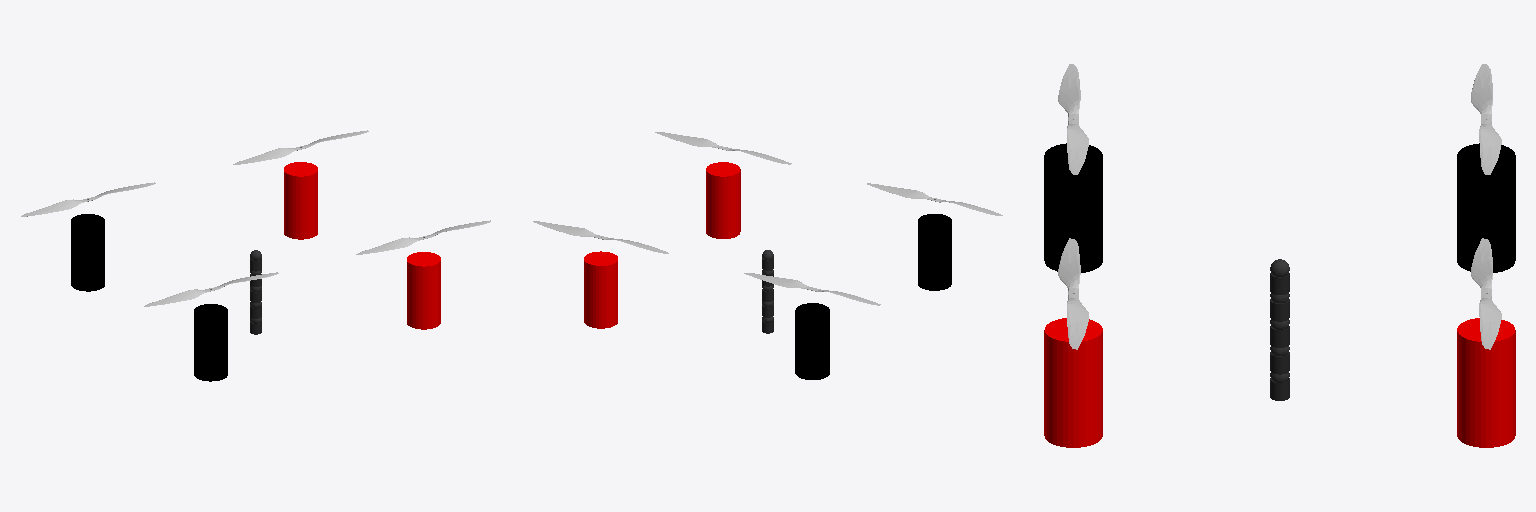
URDF robot description (bros300):
<?xml version="1.0" ?>
<!-- =================================================================================== -->
<!-- |    This document was autogenerated by xacro from model_impactor.urdf.xacro      | -->
<!-- |    Fixed: segment masses/inertias, inertial origins, rope collisions removed    | -->
<!-- =================================================================================== -->
<robot name="bros300">
 <properties mass="1.21" arm="0.15" kf="4.5e-8" km="5.4e-10" thrust2weight="6.944"  max_speed_kmh="200" gnd_eff_coeff="11.36859" prop_radius="0.089" drag_coeff_xy="9.1785e-7" drag_coeff_z="10.311e-7" dw_coeff_1="2267.18" dw_coeff_2=".16" dw_coeff_3="-.11" />

  <material name="blue">
    <color rgba="0.2 0.2 0.2 1"/>
  </material>
  <material name="gray">
    <color rgba="0.25 0.25 0.25 1"/>
  </material>
  <material name="dark_gray">
    <color rgba="0.2 0.2 0.2 1"/>
  </material>
  <material name="pink">
    <color rgba="1.0 0.2 0.8 1"/>
  </material>
  <material name="purple">
    <color rgba="0.8 0.2 0.8 1"/>
  </material>
  <material name="red">
    <color rgba="1.0 0.2 0.2 1"/>
  </material>
  <material name="orange">
    <color rgba="1.0 0.5 0.0 1"/>
  </material>
  <material name="green">
    <color rgba="0.2 0.8 0.2 1"/>
  </material>

  <link name="base_link">
    <inertial>
      <origin rpy="0 0 0" xyz="0 0 0"/>
      <mass value="1.21"/>
      <inertia ixx=".007" ixy="0.0" ixz="0.0" iyy=".007" iyz="0.0" izz=".01"/>
    </inertial>
    <visual>
      <origin rpy="0 0 55" xyz="0 0 0.075"/>
      <geometry>
        <mesh filename="./mesh/a300/frame.stl" scale="0.001 0.001 0.001"/>
      </geometry>
      <material name="frame">
        <color rgba="0.2 0.2 0.2 1"/>
      </material>
    </visual>

<!-- Motors (Visual Only) -->
    <visual>
      <origin rpy="0 0 55" xyz="0.106 -0.106 0.075"/>
      <geometry>
        <mesh filename="./mesh/a300/motor.stl" scale="0.001 0.001 0.001"/>
      </geometry>
      <material name="motor">
        <color rgba="0 .0 .0 1"/>
      </material>
    </visual>
    <visual>
      <origin rpy="0 0 55" xyz="-0.106 0.106 0.075"/>
      <geometry>
        <mesh filename="./mesh/a300/motor.stl" scale="0.001 0.001 0.001"/>
      </geometry>
      <material name="motor">
        <color rgba="0 .0 .0 1"/>
      </material>
    </visual>
    <visual>
      <origin rpy="0 0 55" xyz="0.106 0.106 0.075"/>
      <geometry>
        <mesh filename="./mesh/a300/motor.stl" scale="0.001 0.001 0.001"/>
      </geometry>
      <material name="motor">
        <color rgba="0 .0 .0 1"/>
      </material>
    </visual>
    <visual>
      <origin rpy="0 0 55" xyz="-0.106 -0.106 0.075"/>
      <geometry>
        <mesh filename="./mesh/a300/motor.stl" scale="0.001 0.001 0.001"/>
      </geometry>
      <material name="motor">
        <color rgba="0 .0 .0 1"/>
      </material>
    </visual>

<!-- Legs (Visual and Collision) -->

    <!-- Leg 1 -->
    <visual>
      <origin rpy="0 0 0" xyz="0.106 -0.106 -0.03"/>
      <geometry>
        <cylinder radius="0.015" length="0.06"/>
      </geometry>
      <material name="red"><color rgba="1 0 0 1"/></material>
    </visual>
    <collision>
      <origin rpy="0 0 0" xyz="0.106 -0.106 -0.03"/>
      <geometry>
        <cylinder radius="0.015" length="0.06"/>
      </geometry>
    </collision>

    <!-- Leg 2 -->
    <visual>
      <origin rpy="0 0 0" xyz="-0.106 0.106 -0.03"/>
      <geometry>
        <cylinder radius="0.015" length="0.06"/>
      </geometry>
      <material name="black"><color rgba="0 0 0 1"/></material>
    </visual>
    <collision>
      <origin rpy="0 0 0" xyz="-0.106 0.106 -0.03"/>
      <geometry>
        <cylinder radius="0.015" length="0.06"/>
      </geometry>
    </collision>

    <!-- Leg 3 -->
    <visual>
      <origin rpy="0 0 0" xyz="0.106 0.106 -0.03"/>
      <geometry>
        <cylinder radius="0.015" length="0.06"/>
      </geometry>
      <material name="red"><color rgba="1 0 0 1"/></material>
    </visual>
    <collision>
      <origin rpy="0 0 0" xyz="0.106 0.106 -0.03"/>
      <geometry>
        <cylinder radius="0.015" length="0.06"/>
      </geometry>
    </collision>

    <!-- Leg 4 -->
    <visual>
      <origin rpy="0 0 0" xyz="-0.106 -0.106 -0.03"/>
      <geometry>
        <cylinder radius="0.015" length="0.06"/>
      </geometry>
      <material name="black"><color rgba="0 0 0 1"/></material>
    </visual>
    <collision>
      <origin rpy="0 0 0" xyz="-0.106 -0.106 -0.03"/>
      <geometry>
        <cylinder radius="0.015" length="0.06"/>
      </geometry>
    </collision>




    <collision>
      <origin rpy="0 0 0" xyz="0 0 0"/>
      <geometry>
        <box size=".16 .16 .05"/>
      </geometry>
    </collision>
  </link>

<!-- Propellers -->
  <link name="prop0_link">
    <inertial>
      <origin rpy="0 0 0" xyz="0.106 -0.106 0"/>
      <mass value="0"/>
      <inertia ixx="0" ixy="0" ixz="0" iyy="0" iyz="0" izz="0"/>
    </inertial>
    <visual>
      <origin rpy="0 0 0" xyz="0.106 -0.106 0.02"/>
      <geometry>
          <mesh filename="./mesh/a300/prop.dae"  scale="0.4 0.4 0.4"/>
      </geometry>
    </visual>
  </link>
  <joint name="prop0_joint" type="fixed">
    <parent link="base_link"/>
    <child link="prop0_link"/>
  </joint>

  <link name="prop1_link">
    <inertial>
      <origin rpy="0 0 0" xyz="-0.106 0.106 0"/>
      <mass value="0"/>
      <inertia ixx="0" ixy="0" ixz="0" iyy="0" iyz="0" izz="0"/>
    </inertial>
    <visual>
      <origin rpy="0 0 0" xyz="-0.106 0.106 0.02"/>
      <geometry>
          <mesh filename="./mesh/a300/prop.dae"  scale="0.4 0.4 0.4"/>
      </geometry>
    </visual>
  </link>
  <joint name="prop1_joint" type="fixed">
    <parent link="base_link"/>
    <child link="prop1_link"/>
  </joint>

  <link name="prop2_link">
    <inertial>
      <origin rpy="0 0 0" xyz="0.106 0.106 0"/>
      <mass value="0"/>
      <inertia ixx="0" ixy="0" ixz="0" iyy="0" iyz="0" izz="0"/>
    </inertial>
    <visual>
      <origin rpy="0 0 0" xyz="0.106 0.106 0.02"/>
      <geometry>
          <mesh filename="./mesh/a300/prop.dae"  scale="0.4 0.4 0.4"/>
      </geometry>
    </visual>
  </link>
  <joint name="prop2_joint" type="fixed">
    <parent link="base_link"/>
    <child link="prop2_link"/>
  </joint>

  <link name="prop3_link">
    <inertial>
      <origin rpy="0 0 0" xyz="-0.106 -0.106 0"/>
      <mass value="0"/>
      <inertia ixx="0" ixy="0" ixz="0" iyy="0" iyz="0" izz="0"/>
    </inertial>
    <visual>
      <origin rpy="0 0 0" xyz="-0.106 -0.106 0.02"/>
      <geometry>
          <mesh filename="./mesh/a300/prop.dae"  scale="0.4 0.4 0.4"/>
      </geometry>
    </visual>
  </link>
  <joint name="prop3_joint" type="fixed">
    <parent link="base_link"/>
    <child link="prop3_link"/>
  </joint>

  <link name="center_of_mass_link">
    <inertial>
      <origin rpy="0 0 0" xyz="0 0 0"/>
      <mass value="0"/>
      <inertia ixx="0" ixy="0" ixz="0" iyy="0" iyz="0" izz="0"/>
    </inertial>
  </link>
  <joint name="center_of_mass_joint" type="fixed">
    <parent link="base_link"/>
    <child link="center_of_mass_link"/>
  </joint>

<!-- Rope -->
  <!-- Spherical joint -->
  <link name="segment_1_sphere">
    <visual>
      <geometry>
        <sphere radius="0.005"/>
      </geometry>
      <material name="gray"/>
    </visual>
    <inertial>
      <origin rpy="0 0 0" xyz="0 0 0"/>
      <mass value="0.002"/>
      <inertia ixx="1e-7" ixy="0" ixz="0" iyy="1e-7" iyz="0" izz="1e-7"/>
    </inertial>
  </link>
  <joint name="center_of_mass_link_to_segment_1_sphere" type="revolute">
    <parent link="center_of_mass_link"/>
    <child link="segment_1_sphere"/>
    <origin rpy="0 0 0" xyz="0 0 -0.015"/>
    <axis xyz="0 1 0"/>
    <limit effort="10" lower="-3.14" upper="3.14" velocity="3"/>
    <dynamics damping="0.1" friction="0.0"/>
  </joint>
  <!-- Cylinder segment -->
  <link name="segment_1_cylinder">
    <visual>
      <geometry>
        <cylinder length="0.01" radius="0.005"/>
      </geometry>
      <origin rpy="0 0 0" xyz="0 0 -0.0075"/>
      <material name="blue"/>
    </visual>
    <inertial>
      <origin rpy="0 0 0" xyz="0 0 -0.0075"/>
      <mass value="0.002"/>
      <inertia ixx="1e-7" ixy="0" ixz="0" iyy="1e-7" iyz="0" izz="1e-7"/>
    </inertial>
  </link>
  <joint name="segment_1_sphere_to_cylinder" type="revolute">
    <parent link="segment_1_sphere"/>
    <child link="segment_1_cylinder"/>
    <origin rpy="0 0 0" xyz="0 0 0"/>
    <axis xyz="1 0 0"/>
    <limit effort="10" lower="-3.14" upper="3.14" velocity="3"/>
    <dynamics damping="0.1" friction="0.0"/>
  </joint>

  <!-- Spherical joint -->
  <link name="segment_2_sphere">
    <visual>
      <geometry>
        <sphere radius="0.005"/>
      </geometry>
      <material name="gray"/>
    </visual>
    <inertial>
      <origin rpy="0 0 0" xyz="0 0 0"/>
      <mass value="0.002"/>
      <inertia ixx="1e-7" ixy="0" ixz="0" iyy="1e-7" iyz="0" izz="1e-7"/>
    </inertial>
  </link>
  <joint name="segment_1_cylinder_to_segment_2_sphere" type="revolute">
    <parent link="segment_1_cylinder"/>
    <child link="segment_2_sphere"/>
    <origin rpy="0 0 0" xyz="0 0 -0.015"/>
    <axis xyz="0 1 0"/>
    <limit effort="10" lower="-3.14" upper="3.14" velocity="3"/>
    <dynamics damping="0.1" friction="0.0"/>
  </joint>
  <!-- Cylinder segment -->
  <link name="segment_2_cylinder">
    <visual>
      <geometry>
        <cylinder length="0.01" radius="0.005"/>
      </geometry>
      <origin rpy="0 0 0" xyz="0 0 -0.0075"/>
      <material name="blue"/>
    </visual>
    <inertial>
      <origin rpy="0 0 0" xyz="0 0 -0.0075"/>
      <mass value="0.002"/>
      <inertia ixx="1e-7" ixy="0" ixz="0" iyy="1e-7" iyz="0" izz="1e-7"/>
    </inertial>
  </link>
  <joint name="segment_2_sphere_to_cylinder" type="revolute">
    <parent link="segment_2_sphere"/>
    <child link="segment_2_cylinder"/>
    <origin rpy="0 0 0" xyz="0 0 0"/>
    <axis xyz="1 0 0"/>
    <limit effort="10" lower="-3.14" upper="3.14" velocity="3"/>
    <dynamics damping="0.1" friction="0.0"/>
  </joint>

  <!-- Spherical joint -->
  <link name="segment_3_sphere">
    <visual>
      <geometry>
        <sphere radius="0.005"/>
      </geometry>
      <material name="gray"/>
    </visual>
    <inertial>
      <origin rpy="0 0 0" xyz="0 0 0"/>
      <mass value="0.002"/>
      <inertia ixx="1e-7" ixy="0" ixz="0" iyy="1e-7" iyz="0" izz="1e-7"/>
    </inertial>
  </link>
  <joint name="segment_2_cylinder_to_segment_3_sphere" type="revolute">
    <parent link="segment_2_cylinder"/>
    <child link="segment_3_sphere"/>
    <origin rpy="0 0 0" xyz="0 0 -0.015"/>
    <axis xyz="0 1 0"/>
    <limit effort="10" lower="-3.14" upper="3.14" velocity="3"/>
    <dynamics damping="0.1" friction="0.0"/>
  </joint>
  <!-- Cylinder segment -->
  <link name="segment_3_cylinder">
    <visual>
      <geometry>
        <cylinder length="0.01" radius="0.005"/>
      </geometry>
      <origin rpy="0 0 0" xyz="0 0 -0.0075"/>
      <material name="blue"/>
    </visual>
    <inertial>
      <origin rpy="0 0 0" xyz="0 0 -0.0075"/>
      <mass value="0.002"/>
      <inertia ixx="1e-7" ixy="0" ixz="0" iyy="1e-7" iyz="0" izz="1e-7"/>
    </inertial>
  </link>
  <joint name="segment_3_sphere_to_cylinder" type="revolute">
    <parent link="segment_3_sphere"/>
    <child link="segment_3_cylinder"/>
    <origin rpy="0 0 0" xyz="0 0 0"/>
    <axis xyz="1 0 0"/>
    <limit effort="10" lower="-3.14" upper="3.14" velocity="3"/>
    <dynamics damping="0.1" friction="0.0"/>
  </joint>

  <!-- Spherical joint -->
  <link name="segment_4_sphere">
    <visual>
      <geometry>
        <sphere radius="0.005"/>
      </geometry>
      <material name="gray"/>
    </visual>
    <inertial>
      <origin rpy="0 0 0" xyz="0 0 0"/>
      <mass value="0.002"/>
      <inertia ixx="1e-7" ixy="0" ixz="0" iyy="1e-7" iyz="0" izz="1e-7"/>
    </inertial>
  </link>
  <joint name="segment_3_cylinder_to_segment_4_sphere" type="revolute">
    <parent link="segment_3_cylinder"/>
    <child link="segment_4_sphere"/>
    <origin rpy="0 0 0" xyz="0 0 -0.015"/>
    <axis xyz="0 1 0"/>
    <limit effort="10" lower="-3.14" upper="3.14" velocity="3"/>
    <dynamics damping="0.1" friction="0.0"/>
  </joint>
  <!-- Cylinder segment -->
  <link name="segment_4_cylinder">
    <visual>
      <geometry>
        <cylinder length="0.01" radius="0.005"/>
      </geometry>
      <origin rpy="0 0 0" xyz="0 0 -0.0075"/>
      <material name="blue"/>
    </visual>
    <inertial>
      <origin rpy="0 0 0" xyz="0 0 -0.0075"/>
      <mass value="0.002"/>
      <inertia ixx="1e-7" ixy="0" ixz="0" iyy="1e-7" iyz="0" izz="1e-7"/>
    </inertial>
  </link>
  <joint name="segment_4_sphere_to_cylinder" type="revolute">
    <parent link="segment_4_sphere"/>
    <child link="segment_4_cylinder"/>
    <origin rpy="0 0 0" xyz="0 0 0"/>
    <axis xyz="1 0 0"/>
    <limit effort="10" lower="-3.14" upper="3.14" velocity="3"/>
    <dynamics damping="0.1" friction="0.0"/>
  </joint>

  <!-- Spherical joint -->
  <link name="segment_5_sphere">
    <visual>
      <geometry>
        <sphere radius="0.005"/>
      </geometry>
      <material name="gray"/>
    </visual>
    <inertial>
      <origin rpy="0 0 0" xyz="0 0 0"/>
      <mass value="0.002"/>
      <inertia ixx="1e-7" ixy="0" ixz="0" iyy="1e-7" iyz="0" izz="1e-7"/>
    </inertial>
  </link>
  <joint name="segment_4_cylinder_to_segment_5_sphere" type="revolute">
    <parent link="segment_4_cylinder"/>
    <child link="segment_5_sphere"/>
    <origin rpy="0 0 0" xyz="0 0 -0.015"/>
    <axis xyz="0 1 0"/>
    <limit effort="10" lower="-3.14" upper="3.14" velocity="3"/>
    <dynamics damping="0.1" friction="0.0"/>
  </joint>
  <!-- Cylinder segment -->
  <link name="segment_5_cylinder">
    <visual>
      <geometry>
        <cylinder length="0.01" radius="0.005"/>
      </geometry>
      <origin rpy="0 0 0" xyz="0 0 -0.0075"/>
      <material name="blue"/>
    </visual>
    <inertial>
      <origin rpy="0 0 0" xyz="0 0 -0.0075"/>
      <mass value="0.002"/>
      <inertia ixx="1e-7" ixy="0" ixz="0" iyy="1e-7" iyz="0" izz="1e-7"/>
    </inertial>
  </link>
  <joint name="segment_5_sphere_to_cylinder" type="revolute">
    <parent link="segment_5_sphere"/>
    <child link="segment_5_cylinder"/>
    <origin rpy="0 0 0" xyz="0 0 0"/>
    <axis xyz="1 0 0"/>
    <limit effort="10" lower="-3.14" upper="3.14" velocity="3"/>
    <dynamics damping="0.1" friction="0.0"/>
  </joint>


</robot>

--- Render facts (derived) ---
The picture shows the robot from 3 angles, left to right: view 1: azimuth 30°, elevation 25°; view 2: azimuth 150°, elevation 25°; view 3: azimuth 270°, elevation 25°; orthographic projection.
Robot: bros300 — 16 links, 15 joints (10 revolute, 5 fixed); root link base_link; default pose: all joints at 0.
Visible links, largest first — view 1: base_link, prop3_link, prop2_link, prop0_link, prop1_link; view 2: base_link, prop0_link, prop1_link, prop2_link, prop3_link; view 3: base_link, prop1_link, prop0_link, prop2_link, prop3_link.
Link boxes in pixels (bbox=[...]): base_link: bbox=[71, 162, 440, 381]; prop3_link: bbox=[144, 272, 278, 306]; prop2_link: bbox=[233, 130, 368, 164]; prop0_link: bbox=[356, 220, 490, 254]; prop1_link: bbox=[21, 182, 155, 216]; base_link: bbox=[584, 162, 951, 379]; prop0_link: bbox=[655, 132, 791, 164]; prop1_link: bbox=[744, 273, 880, 305]; prop2_link: bbox=[533, 221, 668, 253]; prop3_link: bbox=[867, 183, 1002, 215]; base_link: bbox=[1044, 143, 1515, 447]; prop1_link: bbox=[1471, 64, 1501, 174]; prop0_link: bbox=[1058, 238, 1088, 349]; prop2_link: bbox=[1471, 238, 1501, 349]; prop3_link: bbox=[1058, 64, 1088, 174].
Size in the robot's own frame: 0.3472 by 0.242 by 0.1107 metres.
4 mesh visuals loaded from 3 distinct referenced files (1 Collada DAE); not drawn: 5 (reference not matched to a file when rendering).
